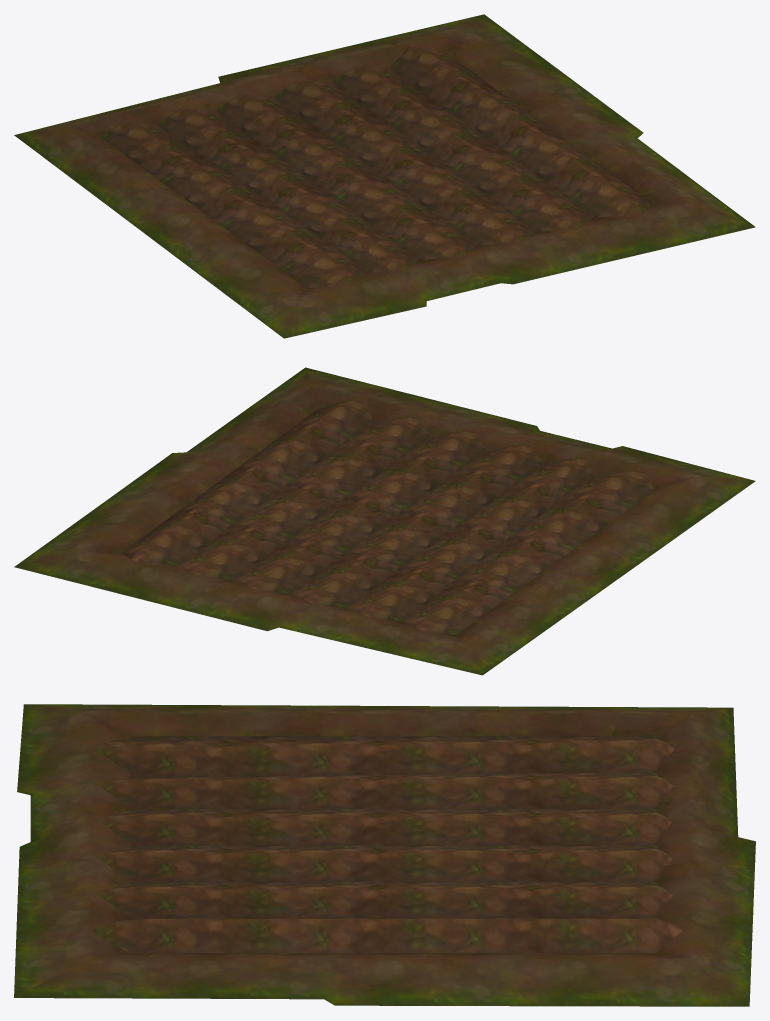
File: common_yewai_nongtian.FBX
3 renders of one model, top to bottom at view 1: azimuth 30°, elevation 25°; view 2: azimuth 150°, elevation 25°; view 3: azimuth 270°, elevation 25°, orthographic. The views are drawn at different scales.
Visible parts, largest first — view 1: common_yewai_nongtian; view 2: common_yewai_nongtian; view 3: common_yewai_nongtian.
Boxes of the visible parts, left/top/right/bottom form: common_yewai_nongtian: left=14, top=14, right=755, bottom=338; common_yewai_nongtian: left=14, top=367, right=755, bottom=675; common_yewai_nongtian: left=14, top=704, right=755, bottom=1006.
Bounding box in the file's own units: 13.16 × 0.6263 × 13.63.
